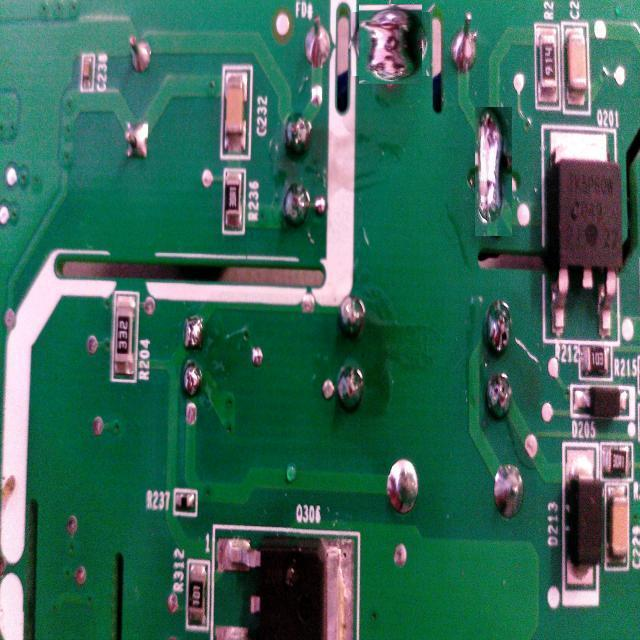Short_circuit: (354, 8, 426, 80), (474, 106, 512, 236)
